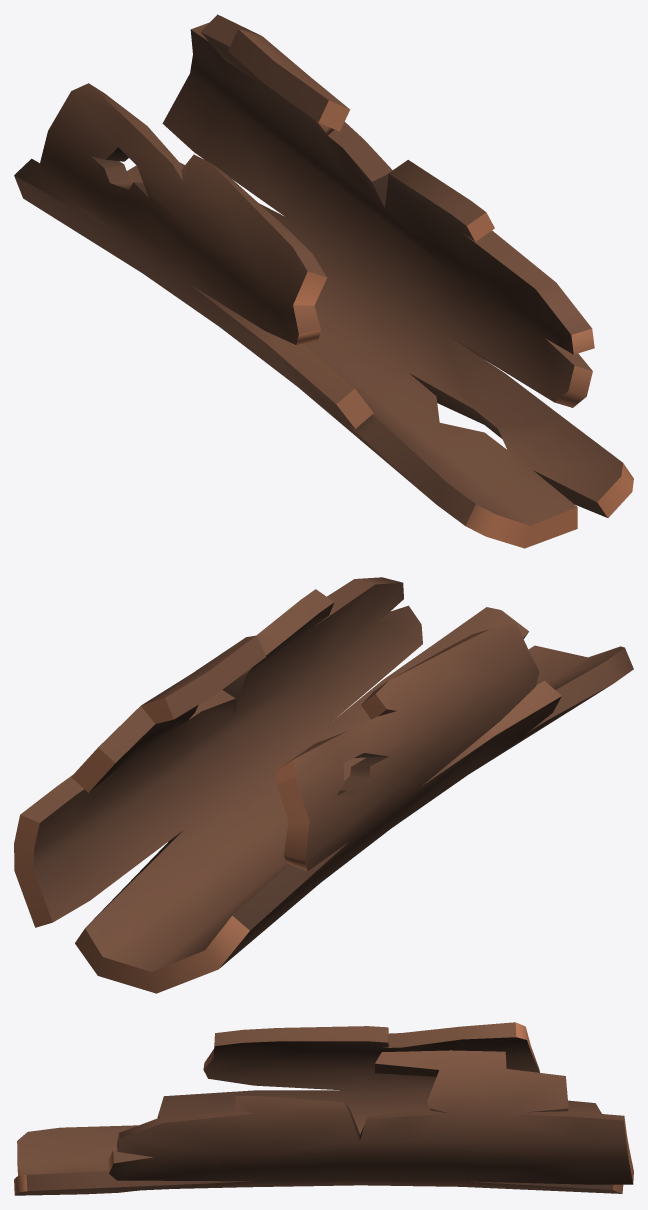
File: Tree_Log_1C.fbx
3 renders of one model, top to bottom at view 1: azimuth 30°, elevation 25°; view 2: azimuth 150°, elevation 25°; view 3: azimuth 270°, elevation 25°, orthographic. The views are drawn at different scales.
Parts seen in each view (by area): view 1: Tree_Log_1C; view 2: Tree_Log_1C; view 3: Tree_Log_1C.
Part boxes in pixels (x1,y1,x2,y2): Tree_Log_1C: [14, 14, 633, 548]; Tree_Log_1C: [14, 577, 633, 993]; Tree_Log_1C: [14, 1022, 633, 1195].
Size of the model in its own units: 59.54 by 54.43 by 201.
